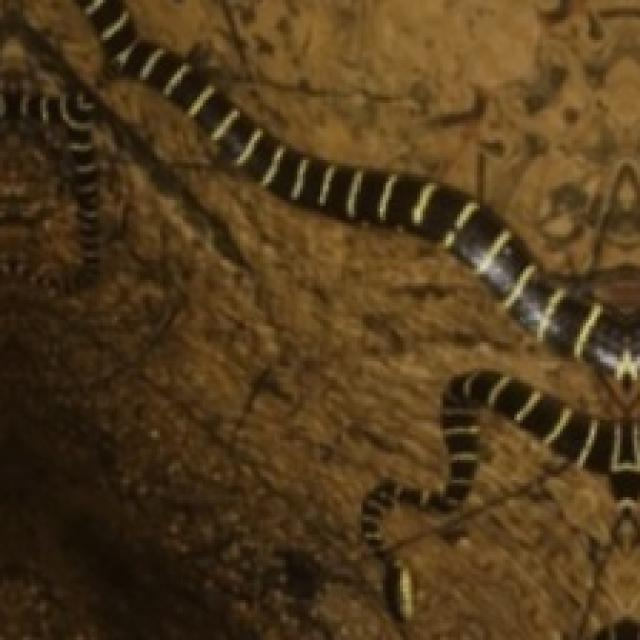mangrove cat snake: (78, 0, 640, 387), (362, 371, 640, 618), (1, 90, 100, 282)
